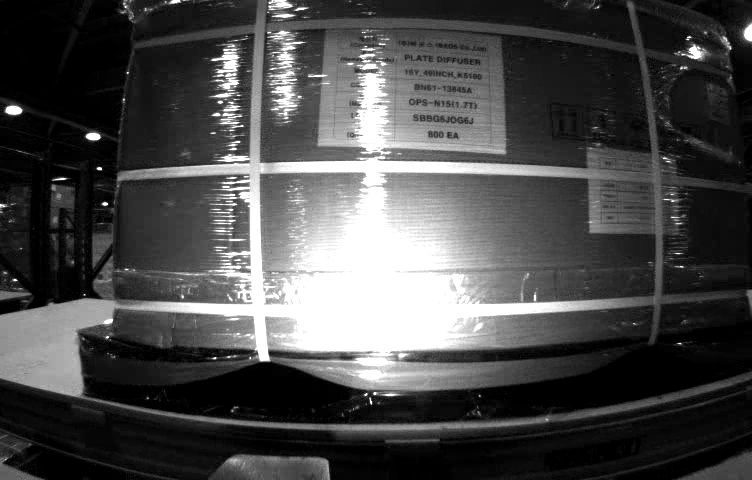True Barcode: (704, 83, 731, 123)
